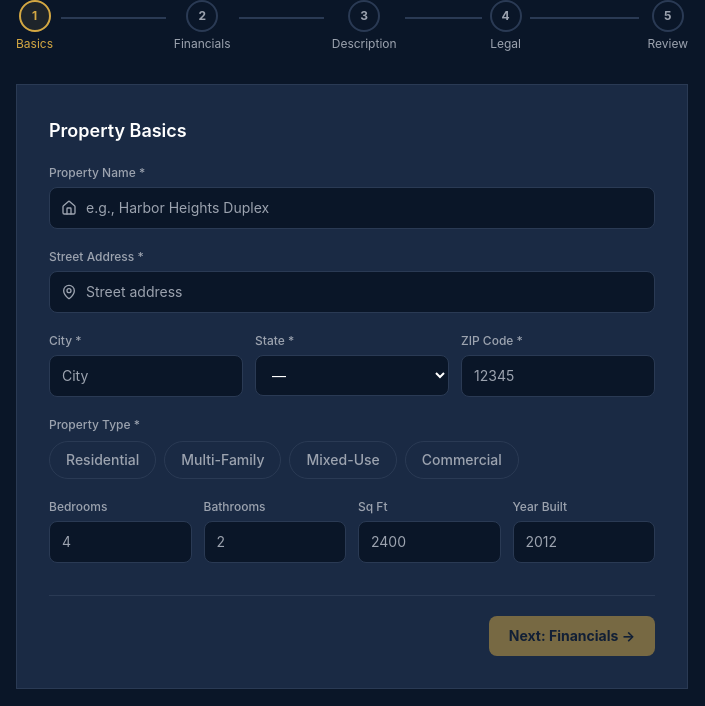
Test: ListPropertyForm › advances to step 2 on Next click with valid step 1 data
Type "My Property" into the field with placeholder "e.g., Harbor Heights Duplex". click: point(352, 208)
box: [49,187,655,229]
Type "123 Main St" into the field with placeholder "Street address". click: point(352, 292)
box: [49,271,655,313]
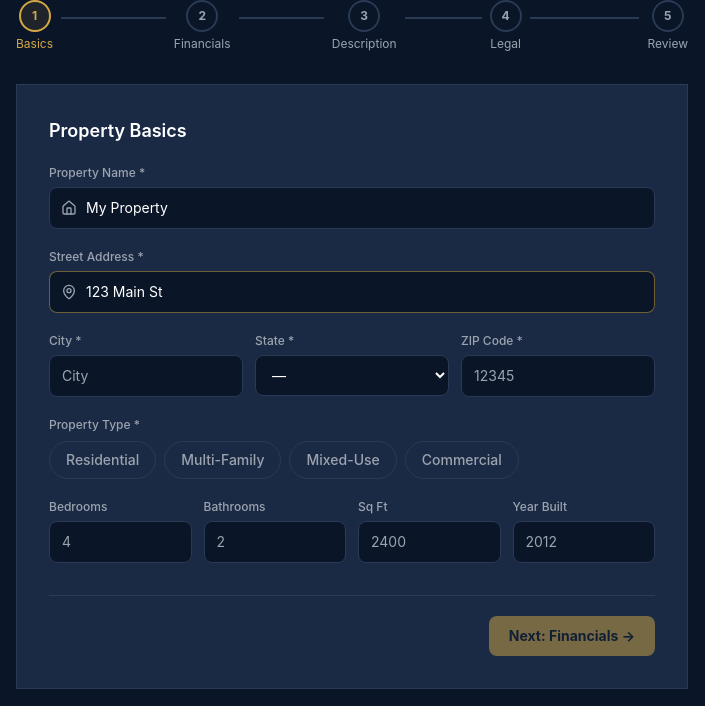
Type "Tampa" into the field with placeholder "City". click: point(146, 376)
box: [49,355,243,397]
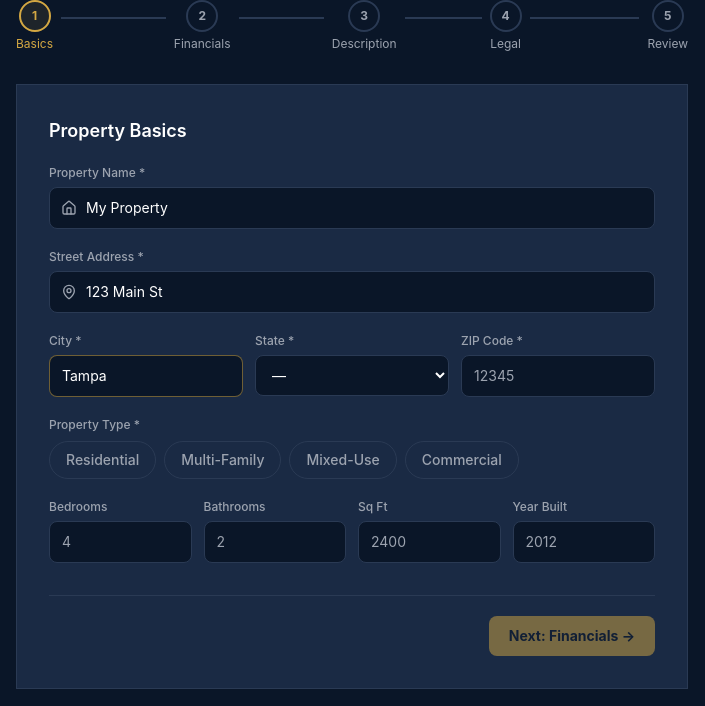
Select "FL" in the dropdown. click: point(352, 376)
box: [255,355,449,396]
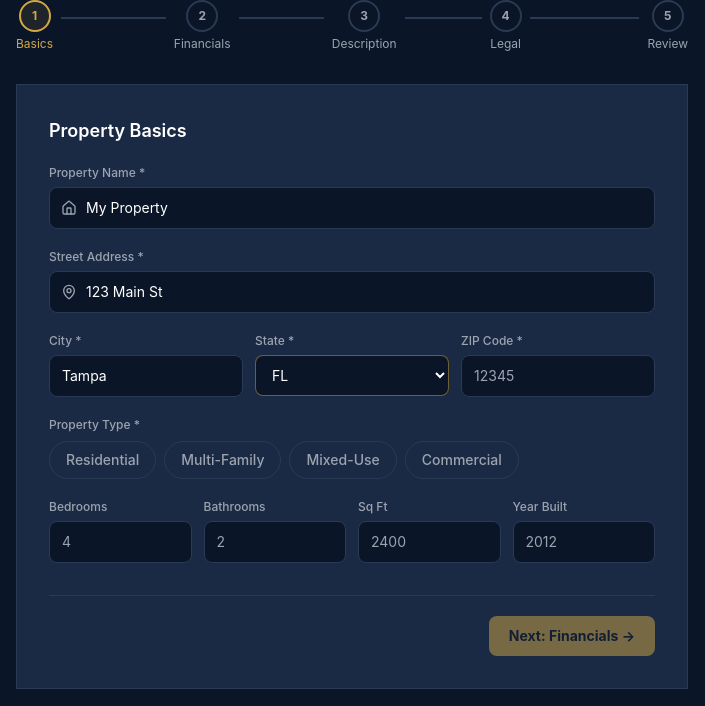
Type "33602" into the field with placeholder "12345". click: point(558, 376)
box: [461,355,655,397]
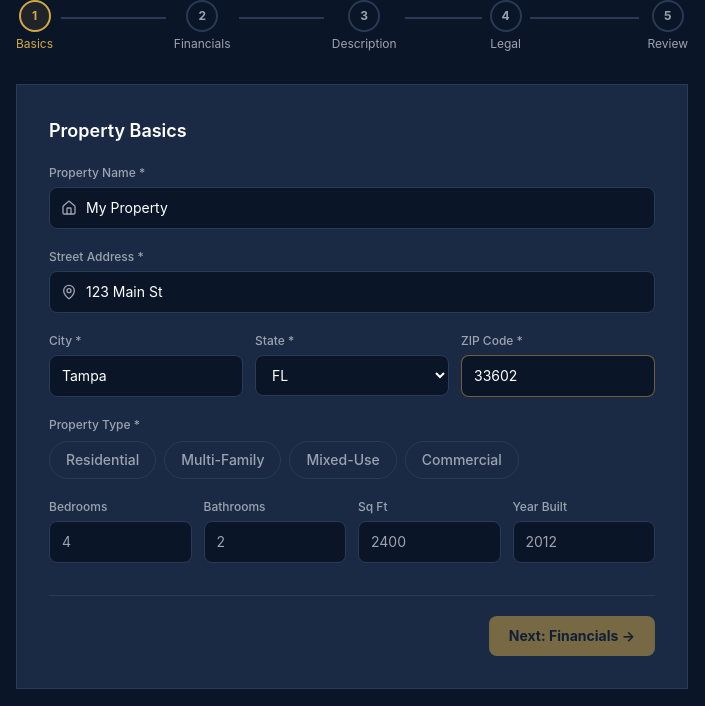
Click the button "Residential". click: point(103, 460)
box: [49,441,156,479]
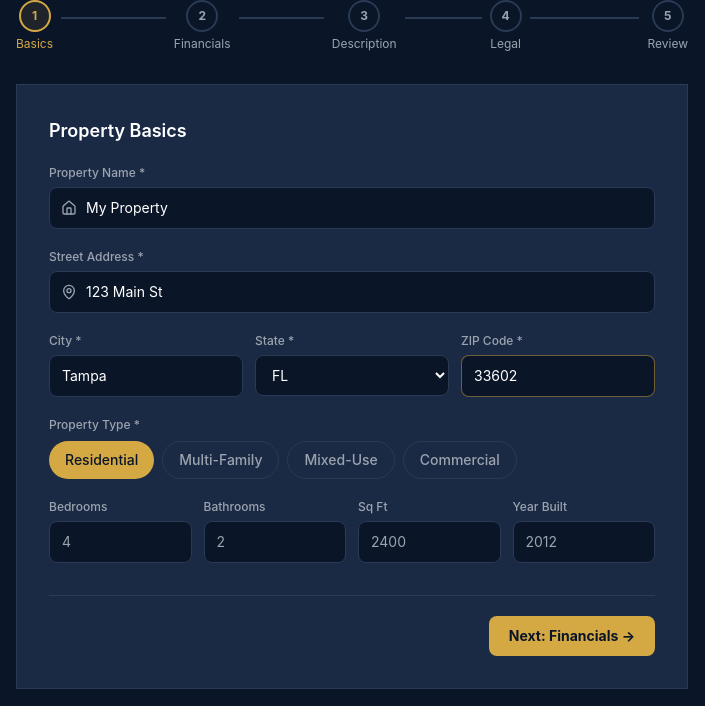
Click the button "Next: Financials →". click: point(572, 636)
box: [489,616,655,656]
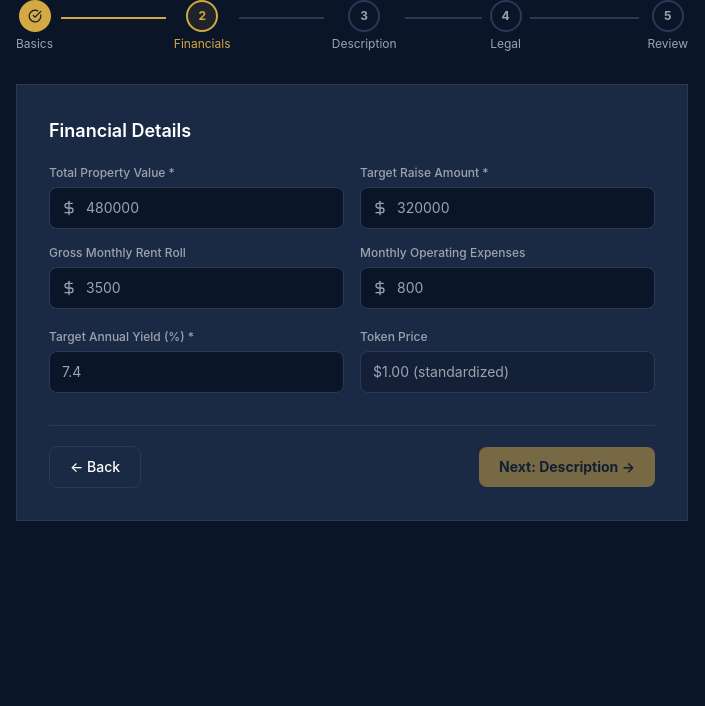
Check: the heading "Financial Details" is shown, box [49,120,191,141]
